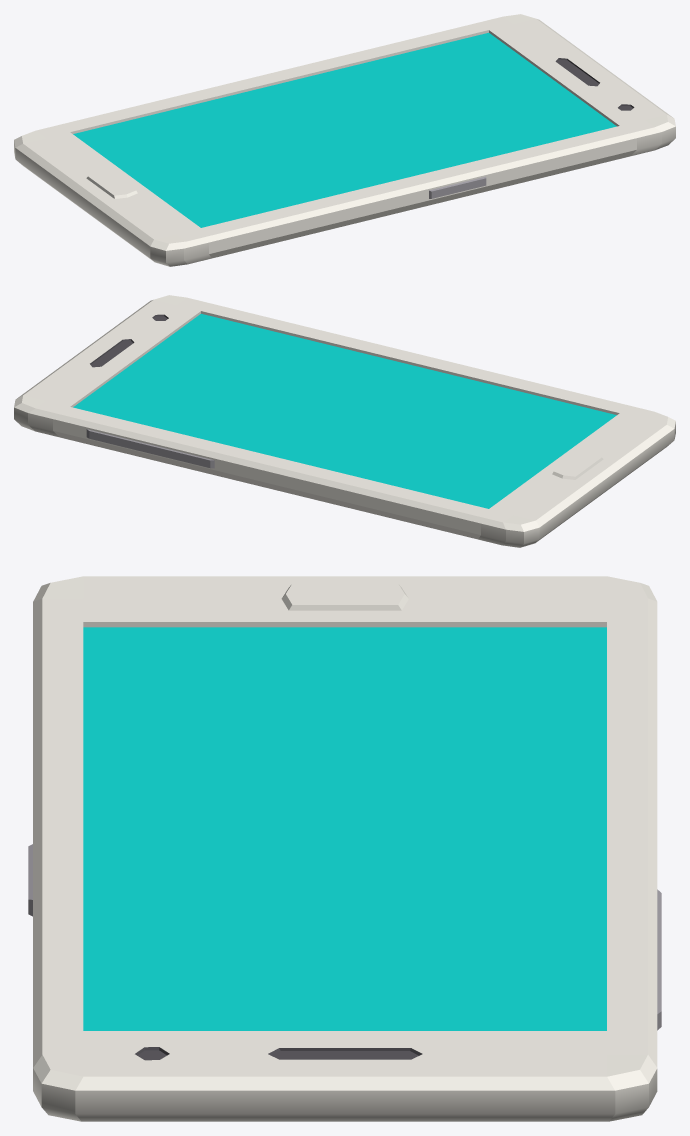
The model's file is Smartphone.fbx.
The picture shows the model from 3 angles, top to bottom: view 1: azimuth 30°, elevation 25°; view 2: azimuth 150°, elevation 25°; view 3: azimuth 270°, elevation 25°; orthographic projection. The views are drawn at different scales.
Visible parts, largest first — view 1: smart_phone; view 2: smart_phone; view 3: smart_phone.
Boxes of the visible parts, left/top/right/bottom form: smart_phone: left=14, top=14, right=675, bottom=266; smart_phone: left=14, top=295, right=675, bottom=547; smart_phone: left=28, top=576, right=661, bottom=1121.
Bounding box in the file's own units: 0.9746 × 0.0448 × 0.5101.
